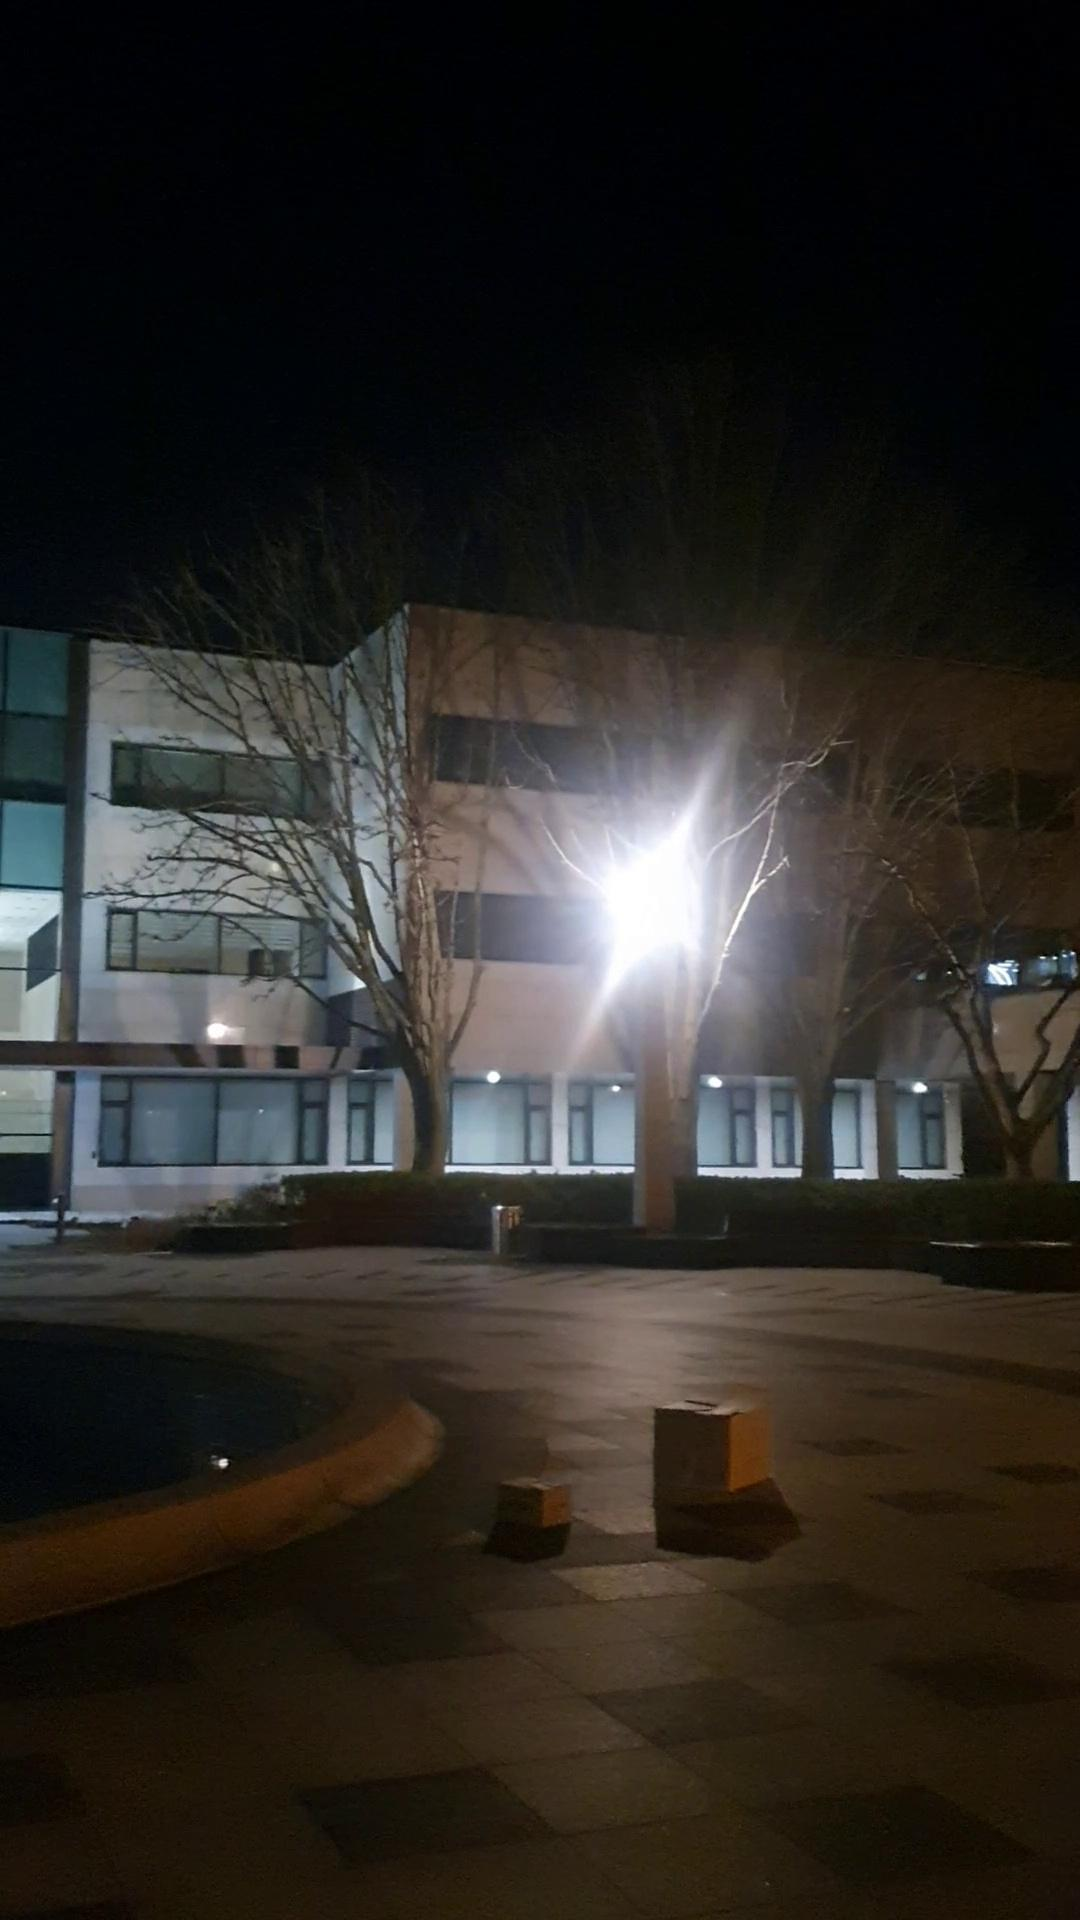Box: (636, 1389, 782, 1518), (493, 1468, 580, 1538)
